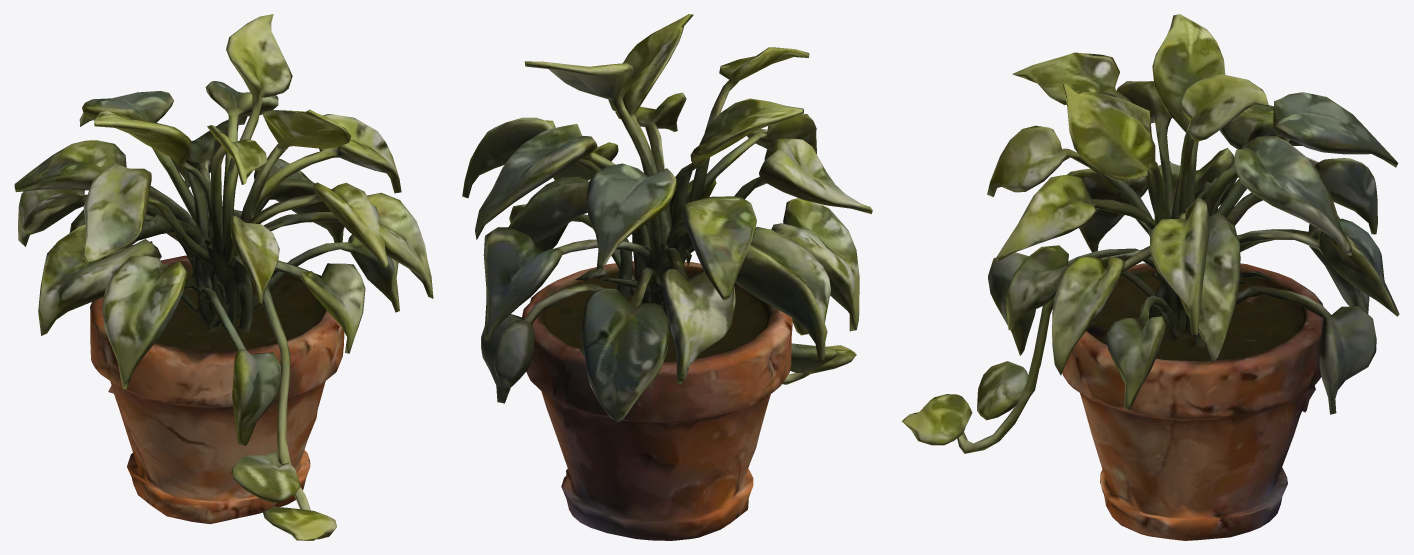
File: pothos.glb
3 renders of one model, left to right at view 1: azimuth 30°, elevation 25°; view 2: azimuth 150°, elevation 25°; view 3: azimuth 270°, elevation 25°, orthographic. The views are drawn at different scales.
Visible parts, largest first — view 1: tripo_node_bf9431cf-4e75-4540-a87f-9341433bc999; view 2: tripo_node_bf9431cf-4e75-4540-a87f-9341433bc999; view 3: tripo_node_bf9431cf-4e75-4540-a87f-9341433bc999.
Part boxes in pixels (box(x1,y1,x2,y2)): tripo_node_bf9431cf-4e75-4540-a87f-9341433bc999: box(14, 14, 433, 540); tripo_node_bf9431cf-4e75-4540-a87f-9341433bc999: box(462, 14, 872, 540); tripo_node_bf9431cf-4e75-4540-a87f-9341433bc999: box(901, 14, 1399, 540).
Bounding box in the file's own units: 0.8573 × 1 × 0.9948.
1 material, 1 textured.
